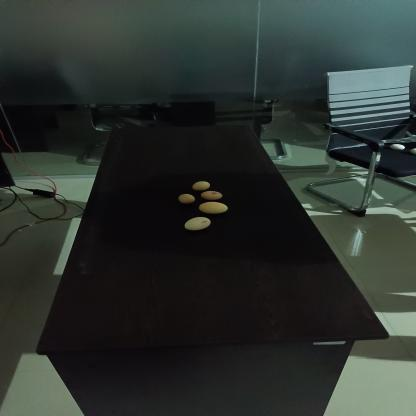egg: (184, 216, 211, 231), (200, 201, 230, 214), (200, 189, 226, 202), (188, 180, 214, 192), (174, 192, 197, 204)
